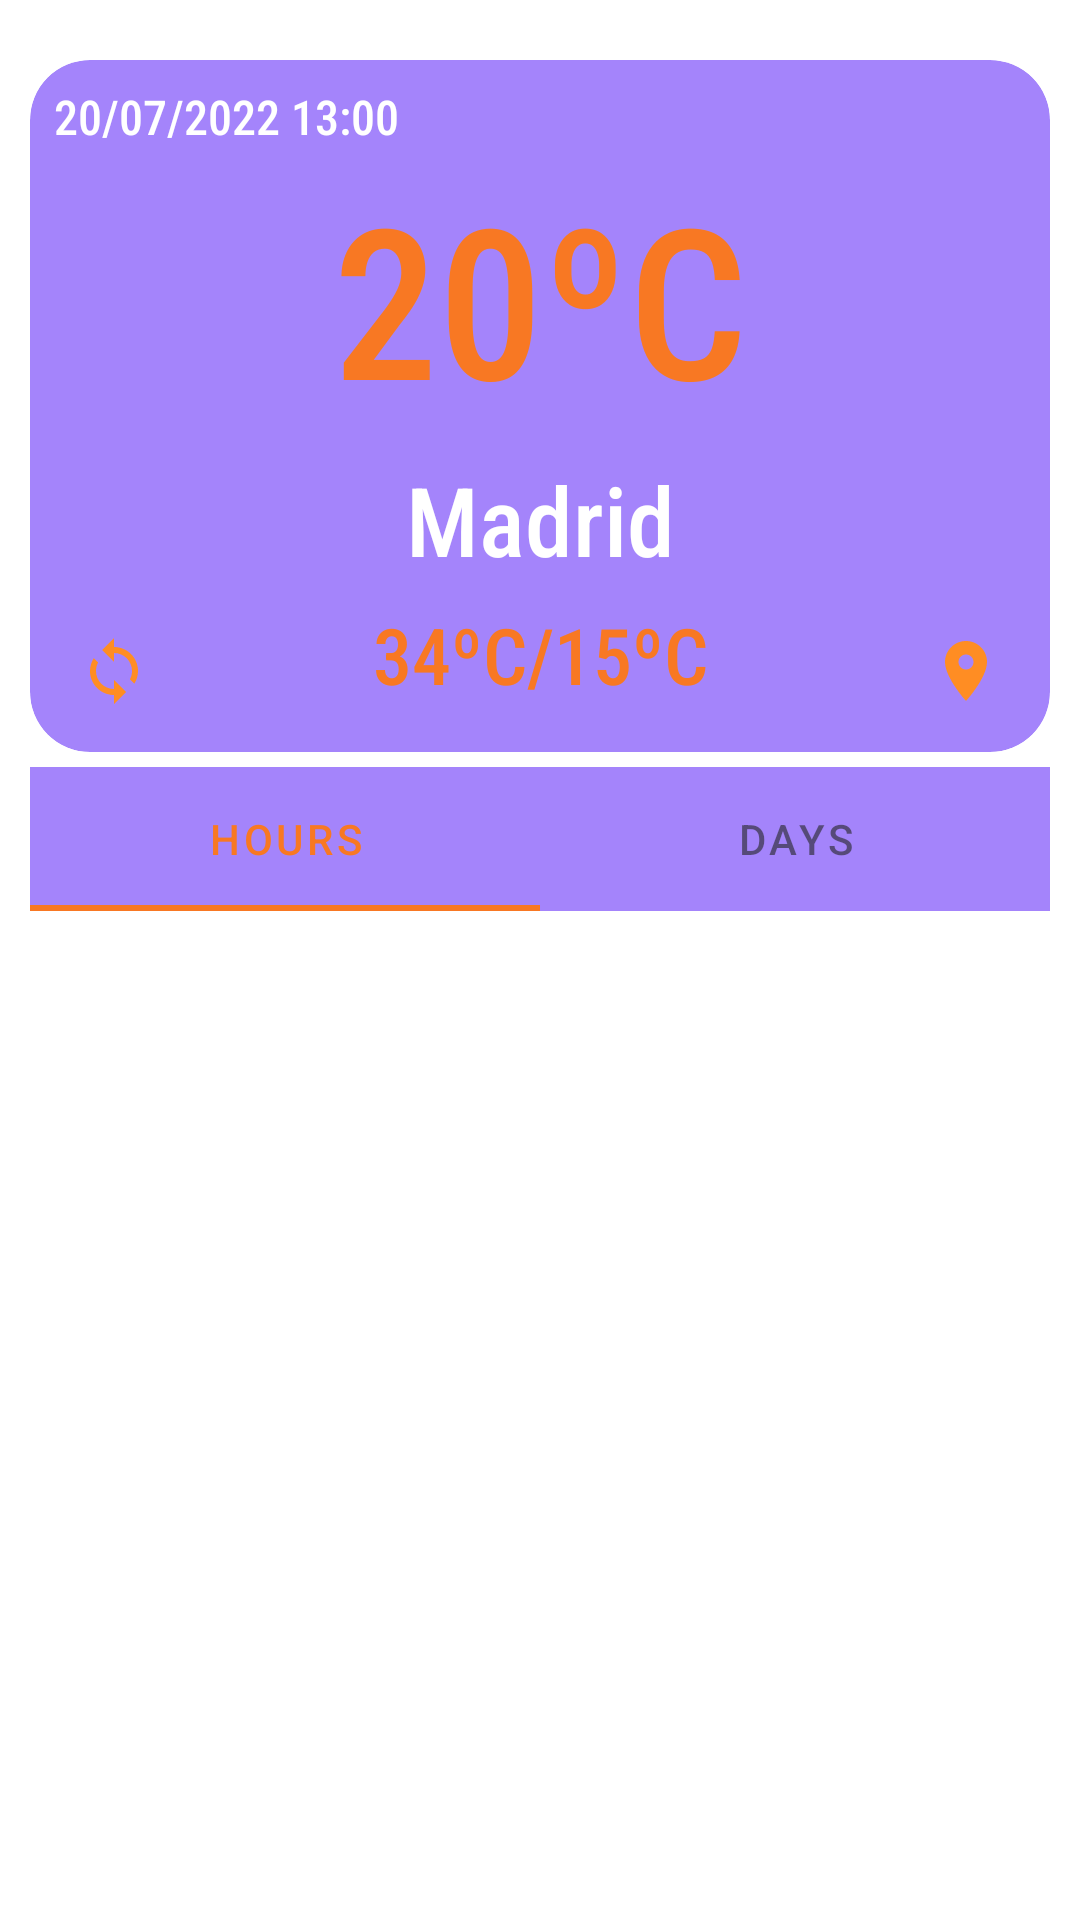

Where icons sit on this 1080 x 1920 app screen, as (x1=x1, y1=y1, x2=x2, y2=y2):
place: (x1=945, y1=641, x2=987, y2=701)
sync: (x1=90, y1=638, x2=138, y2=704)
